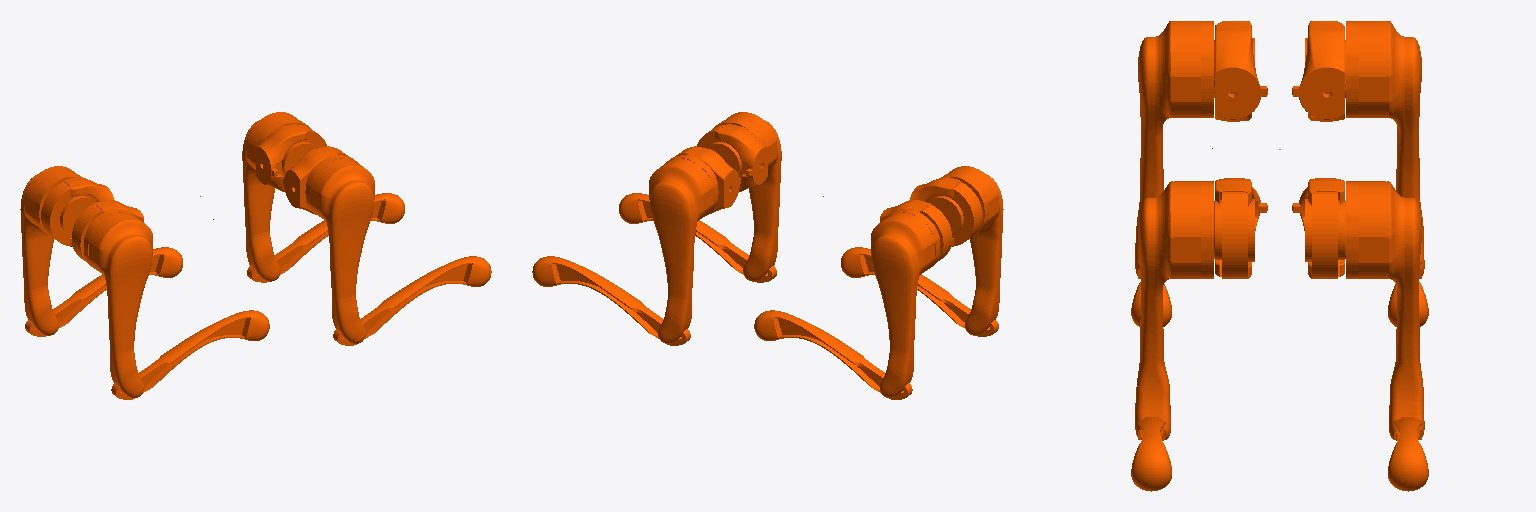
--- Facts derived from the render (not from the file) ---
Views: 3 orthographic renders of the robot side by side, from view 1: azimuth 30°, elevation 25°; view 2: azimuth 150°, elevation 25°; view 3: azimuth 270°, elevation 25°.
Robot: widowGo1 — 36 links, 35 joints (17 revolute, 2 prismatic, 16 fixed); root link base; default pose: joints at zero except 6 at the middle of their limits (widow_left_finger = 0.026, widow_right_finger = -0.026, FR_calf_joint = -1.81, FL_calf_joint = -1.81, RR_calf_joint = -1.81, RL_calf_joint = -1.81).
Links seen in each view (by area): view 1: FR_thigh, RR_thigh, RL_thigh, FL_thigh, FR_calf, RR_calf, RL_hip, FL_hip, FL_calf, RL_calf, FR_hip, RR_hip; view 2: FL_thigh, RL_thigh, RR_thigh, FR_thigh, FL_calf, RL_calf, RR_hip, FR_hip, FR_calf, RR_calf, FL_hip, RL_hip; view 3: FR_thigh, FL_thigh, RR_thigh, RL_thigh, FR_hip, FL_hip, RR_hip, RL_hip, FR_calf, FL_calf, RR_calf, RL_calf.
Boxes of the visible links, <box> form: FR_thigh: <box>305,155,374,343</box>; RR_thigh: <box>84,209,152,397</box>; RL_thigh: <box>20,166,82,335</box>; FL_thigh: <box>242,112,309,281</box>; FR_calf: <box>333,256,491,345</box>; RR_calf: <box>111,310,269,399</box>; RL_hip: <box>41,177,113,246</box>; FL_hip: <box>256,124,326,192</box>; FL_calf: <box>247,193,404,282</box>; RL_calf: <box>25,247,182,336</box>; FR_hip: <box>283,146,347,214</box>; RR_hip: <box>72,200,143,263</box>; FL_thigh: <box>649,155,718,343</box>; RL_thigh: <box>871,209,939,397</box>; RR_thigh: <box>941,166,1003,335</box>; FR_thigh: <box>714,112,781,281</box>; FL_calf: <box>532,256,690,345</box>; RL_calf: <box>754,310,912,399</box>; RR_hip: <box>910,177,982,246</box>; FR_hip: <box>697,124,767,192</box>; FR_calf: <box>619,193,776,282</box>; RR_calf: <box>841,247,998,336</box>; FL_hip: <box>676,146,740,214</box>; RL_hip: <box>880,200,951,263</box>; FR_thigh: <box>1135,181,1213,440</box>; FL_thigh: <box>1346,181,1424,440</box>; RR_thigh: <box>1135,21,1213,275</box>; RL_thigh: <box>1346,21,1424,275</box>; FR_hip: <box>1214,178,1267,278</box>; FL_hip: <box>1292,178,1345,278</box>; RR_hip: <box>1214,21,1267,121</box>; RL_hip: <box>1292,21,1345,121</box>; FR_calf: <box>1131,417,1171,491</box>; FL_calf: <box>1388,417,1428,491</box>; RR_calf: <box>1131,260,1171,326</box>; RL_calf: <box>1388,260,1428,326</box>.
Bounding box of the posed robot: 0.6536 × 0.294 × 0.2794 m (x, y, z).
12 mesh visuals loaded from 14 distinct referenced files (4 Collada DAE); not drawn: 11 (reference not matched to a file when rendering).

robot.urdf — widowGo1:
<?xml version="1.0" ?>
<!-- =================================================================================== -->
<!-- |    This document was autogenerated by xacro from robot.xacro                    | -->
<!-- |    EDITING THIS FILE BY HAND IS NOT RECOMMENDED                                 | -->
<!-- =================================================================================== -->
<robot name="widowGo1">
  <material name="black">
    <color rgba="0.0 0.0 0.0 1.0"/>
  </material>
  <material name="blue">
    <color rgba="0.0 0.0 0.8 1.0"/>
  </material>
  <material name="green">
    <color rgba="0.0 0.8 0.0 1.0"/>
  </material>
  <material name="grey">
    <color rgba="0.2 0.2 0.2 1.0"/>
  </material>
  <material name="silver">
    <color rgba="0.9137254901960784 0.9137254901960784 0.8470588235294118 1.0"/>
  </material>
  <material name="orange">
    <color rgba="1.0 0.4235294117647059 0.0392156862745098 1.0"/>
  </material>
  <material name="brown">
    <color rgba="0.8705882352941177 0.8117647058823529 0.7647058823529411 1.0"/>
  </material>
  <material name="red">
    <color rgba="0.8 0.0 0.0 1.0"/>
  </material>
  <material name="white">
    <color rgba="1.0 1.0 1.0 1.0"/>
  </material>
  <!-- ros_control plugin -->
  <gazebo>
    <plugin filename="libgazebo_ros_control.so" name="gazebo_ros_control">
      <robotNamespace>/go1_gazebo</robotNamespace>
      <robotSimType>gazebo_ros_control/DefaultRobotHWSim</robotSimType>
    </plugin>
  </gazebo>
  <!-- Show the trajectory of trunk center. -->
  <gazebo>
    <plugin filename="libLinkPlot3DPlugin.so" name="3dplot">
      <frequency>10</frequency>
      <plot>
        <link>base</link>
        <pose>0 0 0 0 0 0</pose>
        <material>Gazebo/Yellow</material>
      </plot>
    </plugin>
  </gazebo>
  <!-- Show the trajectory of foot. You can add another trajectory about another foot. -->
  <!-- <gazebo>
        <plugin name="3dplot" filename="libLinkPlot3DPlugin.so">
            <frequency>100</frequency>
            <plot>
                <link>FL_foot</link>
                <pose>0 0 0 0 0 0</pose>
                <material>Gazebo/Green</material>
            </plot>
        </plugin>
    </gazebo> -->
  <gazebo>
    <plugin filename="libgazebo_ros_force.so" name="gazebo_ros_force">
      <bodyName>trunk</bodyName>
      <topicName>/apply_force/trunk</topicName>
    </plugin>
  </gazebo>
  <gazebo reference="imu_link">
    <gravity>true</gravity>
    <sensor name="imu_sensor" type="imu">
      <always_on>true</always_on>
      <update_rate>1000</update_rate>
      <visualize>true</visualize>
      <topic>__default_topic__</topic>
      <plugin filename="libgazebo_ros_imu_sensor.so" name="imu_plugin">
        <topicName>trunk_imu</topicName>
        <bodyName>imu_link</bodyName>
        <updateRateHZ>1000.0</updateRateHZ>
        <gaussianNoise>0.0</gaussianNoise>
        <xyzOffset>0 0 0</xyzOffset>
        <rpyOffset>0 0 0</rpyOffset>
        <frameName>imu_link</frameName>
      </plugin>
      <pose>0 0 0 0 0 0</pose>
    </sensor>
  </gazebo>
  <!-- Depth camera -->
  <!-- <gazebo>
        <plugin name="camera_plugin" filename="libgazebo_ros_openni_kinect.so">
            <baseline>0.025</baseline>
            <always_on>true</always_on>
            <updateRate>0.0</updateRate>
            <cameraName>unitree_camera_left</cameraName>
            <frameName>depthCamera_link_left</frameName>
            <imageTopicName>rgb/imageRaw_left</imageTopicName>
            <depthImageTopicName>depth/imageRaw_left</depthImageTopicName>
            <pointCloudTopicName>depth/points_left</pointCloudTopicName>
            <cameraInfoTopicName>rgb/cameraInfo_left</cameraInfoTopicName>              
            <depthImageCameraInfoTopicName>depth/cameraInfo_left</depthImageCameraInfoTopicName>            
            <pointCloudCutoff>0.1</pointCloudCutoff>                
            <pointCloudCutoffMax>1.5</pointCloudCutoffMax>                
            <distortionK1>0.0</distortionK1>
            <distortionK2>0.0</distortionK2>
            <distortionK3>0.0</distortionK3>
            <distortionT1>0.0</distortionT1>
            <distortionT2>0.0</distortionT2>
            <CxPrime>0.0</CxPrime>
            <Cx>0.0045</Cx>
            <Cy>0.0039</Cy>
            <focalLength>0.004</focalLength>
            <hackBaseline>0.0</hackBaseline>
        </plugin>
    </gazebo> -->
  <!-- <gazebo reference="depthCamera_link_left">
        <sensor name="unitree_camera_left" type="depth_camera">
            <update_rate>16</update_rate>
            <always_on>true</always_on>
            <visualize>true</visualize>
            <camera>
                <horizontal_fov>2.094</horizontal_fov>
                <image>
                    <width>928</width>
                    <height>800</height>
                    <format>R8G8B8</format>
                </image>
                <depth_camera></depth_camera>
                <clip>
                    <near>0.1</near>
                    <far>100</far>
                </clip>
            </camera>
            <plugin name="camera_plugin" filename="libgazebo_ros_openni_kinect.so">
                <baseline>0.025</baseline>
                <always_on>true</always_on>
                <updateRate>0.0</updateRate>
                <cameraName>unitree_camera_left</cameraName>
                <frameName>depthCamera_link_left</frameName>
                <imageTopicName>rgb/imageRaw_left</imageTopicName>
                <depthImageTopicName>depth/imageRaw_left</depthImageTopicName>
                <pointCloudTopicName>depth/points_left</pointCloudTopicName>
                <cameraInfoTopicName>rgb/cameraInfo_left</cameraInfoTopicName>              
                <depthImageCameraInfoTopicName>depth/cameraInfo_left</depthImageCameraInfoTopicName>            
                <pointCloudCutoff>0.1</pointCloudCutoff>                
                <pointCloudCutoffMax>1.5</pointCloudCutoffMax>                
                <distortionK1>0.0</distortionK1>
                <distortionK2>0.0</distortionK2>
                <distortionK3>0.0</distortionK3>
                <distortionT1>0.0</distortionT1>
                <distortionT2>0.0</distortionT2>
                <CxPrime>0.0</CxPrime>
                <Cx>0.0045</Cx>
                <Cy>0.0039</Cy>
                <focalLength>0.004</focalLength>
                <hackBaseline>0.0</hackBaseline>
            </plugin>
        </sensor>
    </gazebo> -->
  <gazebo reference="depthCamera_link_left">
    <sensor name="camera_link_camera" type="depth">
      <update_rate>20</update_rate>
      <camera>
        <horizontal_fov>1.047198</horizontal_fov>
        <image>
          <width>640</width>
          <height>480</height>
          <format>R8G8B8</format>
        </image>
        <clip>
          <near>0.05</near>
          <far>3</far>
        </clip>
      </camera>
      <plugin filename="libgazebo_ros_openni_kinect.so" name="camera_link_controller">
        <baseline>0.2</baseline>
        <alwaysOn>true</alwaysOn>
        <updateRate>1.0</updateRate>
        <cameraName>camera_link_ir</cameraName>
        <imageTopicName>/camera_link/color/image_raw</imageTopicName>
        <cameraInfoTopicName>/camera_link/color/camera_info</cameraInfoTopicName>
        <depthImageTopicName>/camera_link/depth/image_raw</depthImageTopicName>
        <depthImageInfoTopicName>/camera_link/depth/camera_info</depthImageInfoTopicName>
        <pointCloudTopicName>/camera_link/depth/points</pointCloudTopicName>
        <frameName>depthCamera_link_left</frameName>
        <pointCloudCutoff>0.5</pointCloudCutoff>
        <pointCloudCutoffMax>3.0</pointCloudCutoffMax>
        <distortionK1>0.00000001</distortionK1>
        <distortionK2>0.00000001</distortionK2>
        <distortionK3>0.00000001</distortionK3>
        <distortionT1>0.00000001</distortionT1>
        <distortionT2>0.00000001</distortionT2>
        <CxPrime>0</CxPrime>
        <Cx>0</Cx>
        <Cy>0</Cy>
        <focalLength>0</focalLength>
        <hackBaseline>0</hackBaseline>
      </plugin>
    </sensor>
  </gazebo>
  <!-- Foot contacts. -->
  <gazebo reference="FR_calf">
    <sensor name="FR_foot_contact" type="contact">
      <update_rate>100</update_rate>
      <plugin filename="libunitreeFootContactPlugin.so" name="contactPlugin"/>
      <contact>
        <collision>FR_calf_fixed_joint_lump__FR_foot_collision_1</collision>
      </contact>
    </sensor>
  </gazebo>
  <gazebo reference="FL_calf">
    <sensor name="FL_foot_contact" type="contact">
      <update_rate>100</update_rate>
      <plugin filename="libunitreeFootContactPlugin.so" name="contactPlugin"/>
      <contact>
        <collision>FL_calf_fixed_joint_lump__FL_foot_collision_1</collision>
      </contact>
    </sensor>
  </gazebo>
  <gazebo reference="RR_calf">
    <sensor name="RR_foot_contact" type="contact">
      <update_rate>100</update_rate>
      <plugin filename="libunitreeFootContactPlugin.so" name="contactPlugin"/>
      <contact>
        <collision>RR_calf_fixed_joint_lump__RR_foot_collision_1</collision>
      </contact>
    </sensor>
  </gazebo>
  <gazebo reference="RL_calf">
    <sensor name="RL_foot_contact" type="contact">
      <update_rate>100</update_rate>
      <plugin filename="libunitreeFootContactPlugin.so" name="contactPlugin"/>
      <contact>
        <collision>RL_calf_fixed_joint_lump__RL_foot_collision_1</collision>
      </contact>
    </sensor>
  </gazebo>
  <!-- Visualization of Foot contacts. -->
  <gazebo reference="FR_foot">
    <visual>
      <plugin filename="libunitreeDrawForcePlugin.so" name="drawForcePlugin">
        <topicName>FR_foot_contact</topicName>
      </plugin>
    </visual>
  </gazebo>
  <gazebo reference="FL_foot">
    <visual>
      <plugin filename="libunitreeDrawForcePlugin.so" name="drawForcePlugin">
        <topicName>FL_foot_contact</topicName>
      </plugin>
    </visual>
  </gazebo>
  <gazebo reference="RR_foot">
    <visual>
      <plugin filename="libunitreeDrawForcePlugin.so" name="drawForcePlugin">
        <topicName>RR_foot_contact</topicName>
      </plugin>
    </visual>
  </gazebo>
  <gazebo reference="RL_foot">
    <visual>
      <plugin filename="libunitreeDrawForcePlugin.so" name="drawForcePlugin">
        <topicName>RL_foot_contact</topicName>
      </plugin>
    </visual>
  </gazebo>
  <gazebo reference="base">
    <material>Gazebo/Green</material>
    <turnGravityOff>false</turnGravityOff>
  </gazebo>
  <gazebo reference="trunk">
    <mu1>0.2</mu1>
    <mu2>0.2</mu2>
    <kp value="1000000.0"/>
    <kd value="1.0"/>
  </gazebo>
  <gazebo reference="stick_link">
    <mu1>0.2</mu1>
    <mu2>0.2</mu2>
    <material>Gazebo/White</material>
  </gazebo>
  <gazebo reference="imu_link">
    <mu1>0.2</mu1>
    <mu2>0.2</mu2>
    <material>Gazebo/Red</material>
  </gazebo>
  <!-- FL leg -->
  <gazebo reference="FL_hip">
    <mu1>0.2</mu1>
    <mu2>0.2</mu2>
    <material>Gazebo/DarkGrey</material>
  </gazebo>
  <gazebo reference="FL_thigh">
    <mu1>0.2</mu1>
    <mu2>0.2</mu2>
    <self_collide>1</self_collide>
    <material>Gazebo/DarkGrey</material>
    <kp value="1000000.0"/>
    <kd value="1.0"/>
  </gazebo>
  <gazebo reference="FL_calf">
    <mu1>0.2</mu1>
    <mu2>0.2</mu2>
    <self_collide>1</self_collide>
  </gazebo>
  <gazebo reference="FL_foot">
    <mu1>0.6</mu1>
    <mu2>0.6</mu2>
    <self_collide>1</self_collide>
    <material>Gazebo/DarkGrey</material>
    <kp value="1000000.0"/>
    <kd value="1.0"/>
  </gazebo>
  <!-- FR leg -->
  <gazebo reference="FR_hip">
    <mu1>0.2</mu1>
    <mu2>0.2</mu2>
    <material>Gazebo/DarkGrey</material>
  </gazebo>
  <gazebo reference="FR_thigh">
    <mu1>0.2</mu1>
    <mu2>0.2</mu2>
    <self_collide>1</self_collide>
    <material>Gazebo/DarkGrey</material>
    <kp value="1000000.0"/>
    <kd value="1.0"/>
  </gazebo>
  <gazebo reference="FR_calf">
    <mu1>0.2</mu1>
    <mu2>0.2</mu2>
    <self_collide>1</self_collide>
  </gazebo>
  <gazebo reference="FR_foot">
    <mu1>0.6</mu1>
    <mu2>0.6</mu2>
    <self_collide>1</self_collide>
    <material>Gazebo/DarkGrey</material>
    <kp value="1000000.0"/>
    <kd value="1.0"/>
  </gazebo>
  <!-- RL leg -->
  <gazebo reference="RL_hip">
    <mu1>0.2</mu1>
    <mu2>0.2</mu2>
    <material>Gazebo/DarkGrey</material>
  </gazebo>
  <gazebo reference="RL_thigh">
    <mu1>0.2</mu1>
    <mu2>0.2</mu2>
    <self_collide>1</self_collide>
    <material>Gazebo/DarkGrey</material>
    <kp value="1000000.0"/>
    <kd value="1.0"/>
  </gazebo>
  <gazebo reference="RL_calf">
    <mu1>0.2</mu1>
    <mu2>0.2</mu2>
    <self_collide>1</self_collide>
  </gazebo>
  <gazebo reference="RL_foot">
    <mu1>0.6</mu1>
    <mu2>0.6</mu2>
    <self_collide>1</self_collide>
    <material>Gazebo/DarkGrey</material>
    <kp value="1000000.0"/>
    <kd value="1.0"/>
  </gazebo>
  <!-- RR leg -->
  <gazebo reference="RR_hip">
    <mu1>0.2</mu1>
    <mu2>0.2</mu2>
    <material>Gazebo/DarkGrey</material>
  </gazebo>
  <gazebo reference="RR_thigh">
    <mu1>0.2</mu1>
    <mu2>0.2</mu2>
    <self_collide>1</self_collide>
    <material>Gazebo/DarkGrey</material>
    <kp value="1000000.0"/>
    <kd value="1.0"/>
  </gazebo>
  <gazebo reference="RR_calf">
    <mu1>0.2</mu1>
    <mu2>0.2</mu2>
    <self_collide>1</self_collide>
  </gazebo>
  <gazebo reference="RR_foot">
    <mu1>0.6</mu1>
    <mu2>0.6</mu2>
    <self_collide>1</self_collide>
    <material>Gazebo/DarkGrey</material>
    <kp value="1000000.0"/>
    <kd value="1.0"/>
  </gazebo>
  <!-- <xacro:include filename="$(find go1_gazebo)/launch/stairs.urdf.xacro"/> -->
  <!-- <xacro:stairs stairs="15" xpos="0" ypos="0" zpos="0" /> -->
  <!-- Debug mode will hung up the robot, use "true" or "false" to switch it. -->
  <!-- <xacro:if value="$(arg DEBUG)">
    <link name="world"/>
    <joint name="base_static_joint" type="fixed">
      <origin rpy="0 0 0" xyz="0 0 0"/>
      <parent link="world"/>
      <child link="base"/>
    </joint>
  </xacro:if>  -->
  <link name="base">
    <visual>
      <origin rpy="0 0 0" xyz="0 0 0"/>
      <geometry>
        <box size="0.001 0.001 0.001"/>
      </geometry>
    </visual>
  </link>

<!-- widow x config -->
  <joint name="widow_mount" type="fixed">
    <origin rpy="0 0 0" xyz="0.03 0 0.057"/>
    <parent link="base"/>
    <child link="wx250/base_link"/>
  </joint>
  <link name="wx250/base_link">
    <visual>
      <origin rpy="0 0 1.5707963267948966" xyz="0 0 0"/>
      <geometry>
        <mesh filename="../meshes/wx250_meshes/wx250_1_base.stl" scale="0.001 0.001 0.001"/>
      </geometry>
      <material name="black"/>
    </visual>
    <collision>
      <origin rpy="0 0 1.5707963267948966" xyz="0 0 0"/>
      <geometry>
        <mesh filename="../meshes/wx250_meshes/wx250_1_base.stl" scale="0.001 0.001 0.001"/>
      </geometry>
    </collision>
    <inertial>
      <origin rpy="0 0 1.5707963267948966" xyz="-0.0380446000 0.0006138920 0.0193354000"/>
      <mass value="0.538736"/>
      <inertia ixx="0.0021150000" ixy="-0.0000163500" ixz="0.0000006998" iyy="0.0006921000" iyz="0.0000464200" izz="0.0025240000"/>
    </inertial>
  </link>
  <joint name="widow_waist" type="revolute">
    <axis xyz="0 0 1"/>
    <!-- <limit effort="10" lower="-3.141582653589793" upper="3.141582653589793" velocity="3.141592653589793"/> -->
    <limit effort="10" velocity="3.141592653589793"/>
    <origin rpy="0 0 0" xyz="0 0 0.072"/>
    <parent link="wx250/base_link"/>
    <child link="wx250/shoulder_link"/>
    <dynamics friction="0"/>
  </joint>
  <transmission name="trans_waist">
    <type>transmission_interface/SimpleTransmission</type>
    <joint name="widow_waist">
      <hardwareInterface>hardware_interface/EffortJointInterface</hardwareInterface>
    </joint>
    <actuator name="waist_motor">
      <mechanicalReduction>1</mechanicalReduction>
    </actuator>
  </transmission>
  <link name="wx250/shoulder_link">
    <visual>
      <origin rpy="0 0 1.5707963267948966" xyz="0 0 -0.003"/>
      <geometry>
        <mesh filename="../meshes/wx250_meshes/wx250_2_shoulder.stl" scale="0.001 0.001 0.001"/>
      </geometry>
      <material name="black"/>
    </visual>
    <collision>
      <origin rpy="0 0 1.5707963267948966" xyz="0 0 -0.003"/>
      <geometry>
        <mesh filename="../meshes/wx250_meshes/wx250_2_shoulder.stl" scale="0.001 0.001 0.001"/>
      </geometry>
    </collision>
    <inertial>
      <origin rpy="0 0 1.5707963267948966" xyz="0.0000223482 0.0000414609 0.0066287000"/>
      <mass value="0.480879"/>
      <inertia ixx="0.0003790000" ixy="0.0000000022" ixz="-0.0000003561" iyy="0.0005557000" iyz="0.0000012245" izz="0.0005889000"/>
    </inertial>
  </link>
  <joint name="widow_shoulder" type="revolute">
    <axis xyz="0 1 0"/>
    <limit effort="20" lower="-1.8849555921538759" upper="1.9896753472735358" velocity="3.141592653589793"/>
    <origin rpy="0 0 0" xyz="0 0 0.03865"/>
    <parent link="wx250/shoulder_link"/>
    <child link="wx250/upper_arm_link"/>
    <dynamics friction="0"/>
  </joint>
  <transmission name="trans_shoulder">
    <type>transmission_interface/SimpleTransmission</type>
    <joint name="widow_shoulder">
      <hardwareInterface>hardware_interface/EffortJointInterface</hardwareInterface>
    </joint>
    <actuator name="shoulder_motor">
      <mechanicalReduction>1</mechanicalReduction>
    </actuator>
  </transmission>
  <link name="wx250/upper_arm_link">
    <visual>
      <origin rpy="0 0 1.5707963267948966" xyz="0 0 0"/>
      <geometry>
        <mesh filename="../meshes/wx250_meshes/wx250_3_upper_arm.stl" scale="0.001 0.001 0.001"/>
      </geometry>
      <material name="black"/>
    </visual>
    <collision>
      <origin rpy="0 0 1.5707963267948966" xyz="0 0 0"/>
      <geometry>
        <mesh filename="../meshes/wx250_meshes/wx250_3_upper_arm.stl" scale="0.001 0.001 0.001"/>
      </geometry>
    </collision>
    <inertial>
      <origin rpy="0 0 1.5707963267948966" xyz="0.0171605000 0.0000002725 0.1913230000"/>
      <mass value="0.430811"/>
      <inertia ixx="0.0034630000" ixy="-0.0000000001" ixz="-0.0000000002" iyy="0.0035870000" iyz="0.0004272000" izz="0.0004566000"/>
    </inertial>
  </link>
  <joint name="widow_elbow" type="revolute">
    <axis xyz="0 1 0"/>
    <limit effort="15" lower="-2.1467549799530254" upper="1.6057029118347832" velocity="3.141592653589793"/>
    <origin rpy="0 0 0" xyz="0.04975 0 0.25"/>
    <parent link="wx250/upper_arm_link"/>
    <child link="wx250/forearm_link"/>
    <dynamics friction="0"/>
  </joint>
  <transmission name="trans_elbow">
    <type>transmission_interface/SimpleTransmission</type>
    <joint name="widow_elbow">
      <hardwareInterface>hardware_interface/EffortJointInterface</hardwareInterface>
    </joint>
    <actuator name="elbow_motor">
      <mechanicalReduction>1</mechanicalReduction>
    </actuator>
  </transmission>
  <link name="wx250/forearm_link">
    <visual>
      <origin rpy="0 0 1.5707963267948966" xyz="0 0 0"/>
      <geometry>
        <mesh filename="../meshes/wx250_meshes/wx250_4_forearm.stl" scale="0.001 0.001 0.001"/>
      </geometry>
      <material name="black"/>
    </visual>
    <collision>
      <origin rpy="0 0 1.5707963267948966" xyz="0 0 0"/>
      <geometry>
        <mesh filename="../meshes/wx250_meshes/wx250_4_forearm.stl" scale="0.001 0.001 0.001"/>
      </geometry>
    </collision>
    <inertial>
      <origin rpy="0 0 1.5707963267948966" xyz="0.1534230000 -0.0001179685 -0.0004390000"/>
      <mass value="0.297673"/>
      <inertia ixx="0.0021760000" ixy="-0.0000030658" ixz="0.0000000000" iyy="0.0000575700" iyz="0.0000000000" izz="0.0021860000"/>
    </inertial>
  </link>
  <joint name="widow_wrist_angle" type="revolute">
    <axis xyz="0 1 0"/>
    <limit effort="5" lower="-1.7453292519943295" upper="2.1467549799530254" velocity="3.141592653589793"/>
    <origin rpy="0 0 0" xyz="0.25 0 0"/>
    <parent link="wx250/forearm_link"/>
    <child link="wx250/wrist_link"/>
    <dynamics friction="0"/>
  </joint>
  <transmission name="trans_wrist_angle">
    <type>transmission_interface/SimpleTransmission</type>
    <joint name="widow_wrist_angle">
      <hardwareInterface>hardware_interface/EffortJointInterface</hardwareInterface>
    </joint>
    <actuator name="wrist_angle_motor">
      <mechanicalReduction>1</mechanicalReduction>
    </actuator>
  </transmission>
  <link name="wx250/wrist_link">
    <visual>
      <origin rpy="0 0 1.5707963267948966" xyz="0 0 0"/>
      <geometry>
        <mesh filename="../meshes/wx250_meshes/wx250_5_wrist.stl" scale="0.001 0.001 0.001"/>
      </geometry>
      <material name="black"/>
    </visual>
    <collision>
      <origin rpy="0 0 1.5707963267948966" xyz="0 0 0"/>
      <geometry>
        <mesh filename="../meshes/wx250_meshes/wx250_5_wrist.stl" scale="0.001 0.001 0.001"/>
      </geometry>
    </collision>
    <inertial>
      <origin rpy="0 0 1.5707963267948966" xyz="0.0423600000 -0.0000106630 0.0105770000"/>
      <mass value="0.084957"/>
      <inertia ixx="0.0000308200" ixy="0.0000000191" ixz="0.0000000023" iyy="0.0000282200" iyz="0.0000025481" izz="0.0000315200"/>
    </inertial>
  </link>
  <joint name="widow_wrist_rotate" type="revolute">
    <axis xyz="1 0 0"/>
    <limit effort="1" lower="-3.141582653589793" upper="3.141582653589793" velocity="3.141592653589793"/>
    <origin rpy="0 0 0" xyz="0.065 0 0"/>
    <parent link="wx250/wrist_link"/>
    <child link="wx250/gripper_link"/>
    <dynamics friction="0"/>
  </joint>
  <transmission name="trans_wrist_rotate">
    <type>transmission_interface/SimpleTransmission</type>
    <joint name="widow_wrist_rotate">
      <hardwareInterface>hardware_interface/EffortJointInterface</hardwareInterface>
    </joint>
    <actuator name="wrist_rotate_motor">
      <mechanicalReduction>1</mechanicalReduction>
    </actuator>
  </transmission>
  <link name="wx250/gripper_link">
    <visual>
      <origin rpy="0 0 1.5707963267948966" xyz="-0.02 0 0"/>
      <geometry>
        <mesh filename="../meshes/wx250_meshes/wx250_6_gripper.stl" scale="0.001 0.001 0.001"/>
      </geometry>
      <material name="black"/>
    </visual>
    <collision>
      <origin rpy="0 0 1.5707963267948966" xyz="-0.02 0 0"/>
      <geometry>
        <mesh filename="../meshes/wx250_meshes/wx250_6_gripper.stl" scale="0.001 0.001 0.001"/>
      </geometry>
    </collision>
    <inertial>
      <origin rpy="0 0 1.5707963267948966" xyz="0.0216310000 0.0000002516 0.0114100000"/>
      <mass value="0.072885"/>
      <inertia ixx="0.0000253700" ixy="0.0000000000" ixz="0.0000000000" iyy="0.0000183600" iyz="0.0000004340" izz="0.0000167400"/>
    </inertial>
  </link>
  <joint name="ee_arm" type="fixed">
    <axis xyz="1 0 0"/>
    <origin rpy="0 0 0" xyz="0.043 0 0"/>
    <parent link="wx250/gripper_link"/>
    <child link="wx250/ee_arm_link"/>
  </joint>
  <link name="wx250/ee_arm_link">
    <inertial>
      <mass value="0.001"/>
      <inertia ixx="0.001" ixy="0" ixz="0" iyy="0.001" iyz="0" izz="0.001"/>
    </inertial>
  </link>
  <joint name="gripper" type="fixed">
    <axis xyz="1 0 0"/>
    <limit effort="1" velocity="3.141592653589793"/>
    <origin rpy="0 0 0" xyz="0.0055 0 0"/>
    <parent link="wx250/ee_arm_link"/>
    <child link="wx250/gripper_prop_link"/>
    <dynamics friction="0"/>
  </joint>
  <!-- <transmission name="trans_gripper">
    <type>transmission_interface/SimpleTransmission</type>
    <joint name="gripper">
      <hardwareInterface>hardware_interface/EffortJointInterface</hardwareInterface>
    </joint>
    <actuator name="gripper_motor">
      <mechanicalReduction>1</mechanicalReduction>
    </actuator>
  </transmission> -->
  <link name="wx250/gripper_prop_link">
    <visual>
      <origin rpy="0 0 1.5707963267948966" xyz="-0.0685 0 0"/>
      <geometry>
        <mesh filename="../meshes/wx250_meshes/wx250_7_gripper_prop.stl" scale="0.001 0.001 0.001"/>
      </geometry>
      <material name="black"/>
    </visual>
    <collision>
      <origin rpy="0 0 1.5707963267948966" xyz="-0.0685 0 0"/>
      <geometry>
        <mesh filename="../meshes/wx250_meshes/wx250_7_gripper_prop.stl" scale="0.001 0.001 0.001"/>
      </geometry>
    </collision>
    <inertial>
      <origin rpy="0 0 1.5707963267948966" xyz="0.0008460000 -0.0000016817 0.0000420000"/>
      <mass value="0.00434"/>
      <inertia ixx="0.0000005923" ixy="0.0000000000" ixz="0.0000003195" iyy="0.0000011156" iyz="-0.0000000004" izz="0.0000005743"/>
    </inertial>
  </link>
  <!-- If the AR tag is being used, then add the AR tag mount -->
  <!-- If the gripper bar is being used, then also add the gripper bar -->
  <joint name="gripper_bar" type="fixed">
    <axis xyz="1 0 0"/>
    <origin rpy="0 0 0" xyz="0 0 0"/>
    <parent link="wx250/ee_arm_link"/>
    <child link="wx250/gripper_bar_link"/>
  </joint>
  <link name="wx250/gripper_bar_link">
    <visual>
      <origin rpy="0 0 1.5707963267948966" xyz="-0.063 0 0"/>
      <geometry>
        <mesh filename="../meshes/wx250_meshes/wx250_8_gripper_bar.stl" scale="0.001 0.001 0.001"/>
      </geometry>
      <material name="black"/>
    </visual>
    <collision>
      <origin rpy="0 0 1.5707963267948966" xyz="-0.063 0 0"/>
      <geometry>
        <mesh filename="../meshes/wx250_meshes/wx250_8_gripper_bar.stl" scale="0.001 0.001 0.001"/>
      </geometry>
    </collision>
    <inertial>
      <origin rpy="0 0 1.5707963267948966" xyz="0.0096870000 0.0000008177 0.0049620000"/>
      <mass value="0.034199"/>
      <inertia ixx="0.0000074125" ixy="-0.0000000008" ixz="-0.0000000006" iyy="0.0000284300" iyz="-0.0000013889" izz="0.0000286000"/>
    </inertial>
  </link>
  <joint name="ee_bar" type="fixed">
    <axis xyz="1 0 0"/>
    <origin rpy="0 0 0" xyz="0.023 0 0"/>
    <parent link="wx250/gripper_bar_link"/>
    <child link="wx250/fingers_link"/>
  </joint>
  <link name="wx250/fingers_link">
    <inertial>
      <mass value="0.001"/>
      <inertia ixx="0.001" ixy="0" ixz="0" iyy="0.001" iyz="0" izz="0.001"/>
    </inertial>
  </link>
  <!-- If the gripper fingers are being used, add those as well -->
  <joint name="widow_left_finger" type="prismatic">
    <axis xyz="0 1 0"/>
    <limit effort="5" lower="0.015" upper="0.037" velocity="1"/>
    <origin rpy="0 0 0" xyz="0 0 0"/>
    <parent link="wx250/fingers_link"/>
    <child link="wx250/left_finger_link"/>
    <dynamics friction="0"/>
  </joint>
  <transmission name="trans_left_finger">
    <type>transmission_interface/SimpleTransmission</type>
    <joint name="widow_left_finger">
      <hardwareInterface>hardware_interface/EffortJointInterface</hardwareInterface>
    </joint>
    <actuator name="left_finger_motor">
      <mechanicalReduction>1</mechanicalReduction>
    </actuator>
  </transmission>
  <link name="wx250/left_finger_link">
    <visual>
      <origin rpy="3.141592653589793 3.141592653589793 0" xyz="0 0.005 0"/>
      <geometry>
        <mesh filename="../meshes/wx250_meshes/wx250_9_gripper_finger.stl" scale="0.001 0.001 0.001"/>
      </geometry>
      <material name="black"/>
    </visual>
    <collision>
      <origin rpy="3.141592653589793 3.141592653589793 0" xyz="0 0.005 0"/>
      <geometry>
        <mesh filename="../meshes/wx250_meshes/wx250_9_gripper_finger.stl" scale="0.001 0.001 0.001"/>
      </geometry>
    </collision>
    <inertial>
      <origin rpy="3.141592653589793 3.141592653589793 1.5707963267948966" xyz="0.0138160000 0.0000000000 0.0000000000"/>
      <mass value="0.016246"/>
      <inertia ixx="0.0000047310" ixy="-0.0000004560" ixz="0.0000000000" iyy="0.0000015506" iyz="0.0000000000" izz="0.0000037467"/>
    </inertial>
  </link>
  <joint name="widow_right_finger" type="prismatic">
    <axis xyz="0 1 0"/>
    <limit effort="5" lower="-0.037" upper="-0.015" velocity="1"/>
    <origin rpy="0 0 0" xyz="0 0 0"/>
    <parent link="wx250/fingers_link"/>
    <child link="wx250/right_finger_link"/>
    <dynamics friction="0"/>
    <mimic joint="widow_left_finger" multiplier="-1" offset="0"/>
  </joint>
  <transmission name="trans_right_finger">
    <type>transmission_interface/SimpleTransmission</type>
    <joint name="widow_right_finger">
      <hardwareInterface>hardware_interface/EffortJointInterface</hardwareInterface>
    </joint>
    <actuator name="right_finger_motor">
      <mechanicalReduction>1</mechanicalReduction>
    </actuator>
  </transmission>
  <link name="wx250/right_finger_link">
    <visual>
      <origin rpy="0 3.141592653589793 0" xyz="0 -0.005 0"/>
      <geometry>
        <mesh filename="../meshes/wx250_meshes/wx250_9_gripper_finger.stl" scale="0.001 0.001 0.001"/>
      </geometry>
      <material name="black"/>
    </visual>
    <collision>
      <origin rpy="0 3.141592653589793 0" xyz="0 -0.005 0"/>
      <geometry>
        <mesh filename="../meshes/wx250_meshes/wx250_9_gripper_finger.stl" scale="0.001 0.001 0.001"/>
      </geometry>
    </collision>
    <inertial>
      <origin rpy="0 3.141592653589793 1.5707963267948966" xyz="0.0138160000 0.0000000000  0.0000000000"/>
      <mass value="0.016246"/>
      <inertia ixx="0.0000047310" ixy="0.0000004560" ixz="0.0000000000" iyy="0.0000015506" iyz="0.0000000000" izz="0.0000037467"/>
    </inertial>
  </link>
  <joint name="ee_gripper" type="fixed" dont_collapse="true">
    <axis xyz="1 0 0"/>
    <origin rpy="0 0 0" xyz="0.027575 0 0"/>
    <parent link="wx250/fingers_link"/>
    <child link="wx250/ee_gripper_link"/>
  </joint>
  <link name="wx250/ee_gripper_link">
    <inertial>
      <mass value="0.001"/>
      <inertia ixx="0.001" ixy="0" ixz="0" iyy="0.001" iyz="0" izz="0.001"/>
    </inertial>
  </link>
<!-- widow x config ends -->

  <joint name="floating_base" type="fixed" dont_collapse="true">
    <origin rpy="0 0 0" xyz="0 0 0"/>
    <parent link="base"/>
    <child link="trunk"/>
  </joint>
  <link name="trunk">
    <visual>
      <origin rpy="0 0 0" xyz="0 0 0"/>
      <geometry>
        <mesh filename="../meshes/trunk.dae" scale="1 1 1"/>
      </geometry>
      <material name="orange"/>
    </visual>
    <collision>
      <origin rpy="0 0 0" xyz="0 0 0"/>
      <!-- <geometry>
        <mesh filename="../meshes/trunk.dae" scale="1 1 1"/>
      </geometry> -->
      <geometry>
        <box size="0.3762 0.0935 0.114"/>
      </geometry>
    </collision>
    <inertial>
      <origin rpy="0 0 0" xyz="0.011611 0.004437 0.000108"/>
      <mass value="4.8"/>
      <inertia ixx="0.016130741919" ixy="0.000593180607" ixz="7.324662e-06" iyy="0.036507810812" iyz="2.0969537e-05" izz="0.044693872053"/>
    </inertial>
  </link>
  <joint name="imu_joint" type="fixed">
    <parent link="trunk"/>
    <child link="imu_link"/>
    <origin rpy="0 0 0" xyz="-0.01592 -0.06659 -0.00617"/>
  </joint>
  <link name="imu_link">
    <inertial>
      <mass value="0.001"/>
      <origin rpy="0 0 0" xyz="0 0 0"/>
      <inertia ixx="0.0001" ixy="0" ixz="0" iyy="0.0001" iyz="0" izz="0.0001"/>
    </inertial>
    <visual>
      <origin rpy="0 0 0" xyz="0 0 0"/>
      <geometry>
        <box size="0.001 0.001 0.001"/>
      </geometry>
      <material name="red"/>
    </visual>
    <collision>
      <origin rpy="0 0 0" xyz="0 0 0"/>
      <geometry>
        <box size=".001 .001 .001"/>
      </geometry>
    </collision>
  </link>
  <joint name="FR_hip_joint" type="revolute">
    <origin rpy="0 0 0" xyz="0.1881 -0.04675 0"/>
    <parent link="trunk"/>
    <child link="FR_hip"/>
    <axis xyz="1 0 0"/>
    <dynamics damping="0" friction="0"/>
    <limit effort="33.5" lower="-0.8028514559173915" upper="0.8028514559173915" velocity="21"/>
  </joint>
  <link name="FR_hip">
    <visual>
      <origin rpy="3.141592653589793 0 0" xyz="0 0 0"/>
      <geometry>
        <mesh filename="../meshes/hip.dae" scale="1 1 1"/>
      </geometry>
      <material name="orange"/>
    </visual>
    <collision>
      <origin rpy="1.5707963267948966 0 0" xyz="0 0 0"/>
      <geometry>
        <cylinder length="0.04" radius="0.046"/>
      </geometry>
    </collision>
    <inertial>
      <origin rpy="0 0 0" xyz="-0.00541 0.00074 6e-06"/>
      <mass value="0.510299"/>
      <inertia ixx="0.00030528937" ixy="7.788013e-06" ixz="2.2016e-07" iyy="0.000590894859" iyz="1.7175e-08" izz="0.000396594572"/>
    </inertial>
  </link>
  <joint name="FR_hip_fixed" type="fixed">
    <origin rpy="0 0 0" xyz="0 -0.08 0"/>
    <parent link="FR_hip"/>
    <child link="FR_thigh_shoulder"/>
  </joint>
  <!-- this link is only for collision -->
  <link name="FR_thigh_shoulder">
    <collision>
      <origin rpy="1.5707963267948966 0 0" xyz="0 0 0"/>
      <geometry>
        <cylinder length="0.032" radius="0.041"/>
      </geometry>
    </collision>
  </link>
  <joint name="FR_thigh_joint" type="revolute">
    <origin rpy="0 0 0" xyz="0 -0.08 0"/>
    <parent link="FR_hip"/>
    <child link="FR_thigh"/>
    <axis xyz="0 1 0"/>
    <dynamics damping="0" friction="0"/>
    <limit effort="33.5" lower="-1.0471975511965976" upper="4.1887902047863905" velocity="21"/>
  </joint>
  <link name="FR_thigh">
    <visual>
      <origin rpy="0 0 0" xyz="0 0 0"/>
      <geometry>
        <mesh filename="../meshes/thigh_mirror.dae" scale="1 1 1"/>
      </geometry>
      <material name="orange"/>
    </visual>
    <collision>
      <origin rpy="0 1.5707963267948966 0" xyz="0 0 -0.1065"/>
      <geometry>
        <box size="0.213 0.0245 0.034"/>
      </geometry>
    </collision>
    <inertial>
      <origin rpy="0 0 0" xyz="-0.003468 0.018947 -0.032736"/>
      <mass value="0.898919"/>
      <inertia ixx="0.005395867678" ixy="-1.02809e-07" ixz="0.000337529085" iyy="0.005142451046" iyz="5.816563e-06" izz="0.00102478732"/>
    </inertial>
  </link>
  <joint name="FR_calf_joint" type="revolute">
    <origin rpy="0 0 0" xyz="0 0 -0.213"/>
    <parent link="FR_thigh"/>
    <child link="FR_calf"/>
    <axis xyz="0 1 0"/>
    <dynamics damping="0" friction="0"/>
    <limit effort="33.5" lower="-2.6965336943312392" upper="-0.9162978572970231" velocity="21"/>
  </joint>
  <link name="FR_calf">
    <visual>
      <origin rpy="0 0 0" xyz="0 0 0"/>
      <geometry>
        <mesh filename="../meshes/calf.dae" scale="1 1 1"/>
      </geometry>
      <material name="orange"/>
    </visual>
    <collision>
      <origin rpy="0 1.5707963267948966 0" xyz="0 0 -0.1065"/>
      <geometry>
        <box size="0.213 0.016 0.016"/>
      </geometry>
    </collision>
    <inertial>
      <origin rpy="0 0 0" xyz="0.006286 0.001307 -0.122269"/>
      <mass value="0.158015"/>
      <inertia ixx="0.003607648222" ixy="1.494971e-06" ixz="-0.000132778525" iyy="0.003626771492" iyz="-2.8638535e-05" izz="3.5148003e-05"/>
    </inertial>
  </link>
  <joint name="FR_foot_fixed" type="fixed" dont_collapse="true">
    <origin rpy="0 0 0" xyz="0 0 -0.213"/>
    <parent link="FR_calf"/>
    <child link="FR_foot"/>
  </joint>
  <link name="FR_foot">
    <visual>
      <origin rpy="0 0 0" xyz="0 0 0"/>
      <geometry>
        <sphere radius="0.01"/>
      </geometry>
      <material name="orange"/>
    </visual>
    <collision>
      <origin rpy="0 0 0" xyz="0 0 0"/>
      <geometry>
        <sphere radius="0.02"/>
      </geometry>
    </collision>
    <inertial>
      <mass value="0.06"/>
      <inertia ixx="9.600000000000001e-06" ixy="0.0" ixz="0.0" iyy="9.600000000000001e-06" iyz="0.0" izz="9.600000000000001e-06"/>
    </inertial>
  </link>
  <transmission name="FR_hip_tran">
    <type>transmission_interface/SimpleTransmission</type>
    <joint name="FR_hip_joint">
      <hardwareInterface>hardware_interface/EffortJointInterface</hardwareInterface>
    </joint>
    <actuator name="FR_hip_motor">
      <hardwareInterface>hardware_interface/EffortJointInterface</hardwareInterface>
      <mechanicalReduction>1</mechanicalReduction>
    </actuator>
  </transmission>
  <transmission name="FR_thigh_tran">
    <type>transmission_interface/SimpleTransmission</type>
    <joint name="FR_thigh_joint">
      <hardwareInterface>hardware_interface/EffortJointInterface</hardwareInterface>
    </joint>
    <actuator name="FR_thigh_motor">
      <hardwareInterface>hardware_interface/EffortJointInterface</hardwareInterface>
      <mechanicalReduction>1</mechanicalReduction>
    </actuator>
  </transmission>
  <transmission name="FR_calf_tran">
    <type>transmission_interface/SimpleTransmission</type>
    <joint name="FR_calf_joint">
      <hardwareInterface>hardware_interface/EffortJointInterface</hardwareInterface>
    </joint>
    <actuator name="FR_calf_motor">
      <hardwareInterface>hardware_interface/EffortJointInterface</hardwareInterface>
      <mechanicalReduction>1</mechanicalReduction>
    </actuator>
  </transmission>
  <joint name="FL_hip_joint" type="revolute">
    <origin rpy="0 0 0" xyz="0.1881 0.04675 0"/>
    <parent link="trunk"/>
    <child link="FL_hip"/>
    <axis xyz="1 0 0"/>
    <dynamics damping="0" friction="0"/>
    <limit effort="33.5" lower="-0.8028514559173915" upper="0.8028514559173915" velocity="21"/>
  </joint>
  <link name="FL_hip">
    <visual>
      <origin rpy="0 0 0" xyz="0 0 0"/>
      <geometry>
        <mesh filename="../meshes/hip.dae" scale="1 1 1"/>
      </geometry>
      <material name="orange"/>
    </visual>
    <collision>
      <origin rpy="1.5707963267948966 0 0" xyz="0 0 0"/>
      <!-- <geometry>
        <mesh filename="../meshes/hip.dae" scale="1 1 1"/>
      </geometry> -->
      <geometry>
        <cylinder length="0.04" radius="0.046"/>
      </geometry>
    </collision>
    <inertial>
      <origin rpy="0 0 0" xyz="-0.00541 -0.00074 6e-06"/>
      <mass value="0.510299"/>
      <inertia ixx="0.00030528937" ixy="-7.788013e-06" ixz="2.2016e-07" iyy="0.000590894859" iyz="-1.7175e-08" izz="0.000396594572"/>
    </inertial>
  </link>
  <joint name="FL_hip_fixed" type="fixed">
    <origin rpy="0 0 0" xyz="0 0.08 0"/>
    <parent link="FL_hip"/>
    <child link="FL_thigh_shoulder"/>
  </joint>
  <!-- this link is only for collision -->
  <link name="FL_thigh_shoulder">
    <collision>
      <origin rpy="1.5707963267948966 0 0" xyz="0 0 0"/>
      <geometry>
        <cylinder length="0.032" radius="0.041"/>
      </geometry>
    </collision>
  </link>
  <joint name="FL_thigh_joint" type="revolute">
    <origin rpy="0 0 0" xyz="0 0.08 0"/>
    <parent link="FL_hip"/>
    <child link="FL_thigh"/>
    <axis xyz="0 1 0"/>
    <dynamics damping="0" friction="0"/>
    <limit effort="33.5" lower="-1.0471975511965976" upper="4.1887902047863905" velocity="21"/>
  </joint>
  <link name="FL_thigh">
    <visual>
      <origin rpy="0 0 0" xyz="0 0 0"/>
      <geometry>
        <mesh filename="../meshes/thigh.dae" scale="1 1 1"/>
      </geometry>
      <material name="orange"/>
    </visual>
    <collision>
      <origin rpy="0 1.5707963267948966 0" xyz="0 0 -0.1065"/>
      <geometry>
        <box size="0.213 0.0245 0.034"/>
      </geometry>
    </collision>
    <inertial>
      <origin rpy="0 0 0" xyz="-0.003468 -0.018947 -0.032736"/>
      <mass value="0.898919"/>
      <inertia ixx="0.005395867678" ixy="1.02809e-07" ixz="0.000337529085" iyy="0.005142451046" iyz="-5.816563e-06" izz="0.00102478732"/>
    </inertial>
  </link>
  <joint name="FL_calf_joint" type="revolute">
    <origin rpy="0 0 0" xyz="0 0 -0.213"/>
    <parent link="FL_thigh"/>
    <child link="FL_calf"/>
    <axis xyz="0 1 0"/>
    <dynamics damping="0" friction="0"/>
    <limit effort="33.5" lower="-2.6965336943312392" upper="-0.9162978572970231" velocity="21"/>
  </joint>
  <link name="FL_calf">
    <visual>
      <origin rpy="0 0 0" xyz="0 0 0"/>
      <geometry>
        <mesh filename="../meshes/calf.dae" scale="1 1 1"/>
      </geometry>
      <material name="orange"/>
    </visual>
    <collision>
      <origin rpy="0 1.5707963267948966 0" xyz="0 0 -0.1065"/>
      <geometry>
        <box size="0.213 0.016 0.016"/>
      </geometry>
    </collision>
    <inertial>
      <origin rpy="0 0 0" xyz="0.006286 0.001307 -0.122269"/>
      <mass value="0.158015"/>
      <inertia ixx="0.003607648222" ixy="1.494971e-06" ixz="-0.000132778525" iyy="0.003626771492" iyz="-2.8638535e-05" izz="3.5148003e-05"/>
    </inertial>
  </link>
  <joint name="FL_foot_fixed" type="fixed" dont_collapse="true">
    <origin rpy="0 0 0" xyz="0 0 -0.213"/>
    <parent link="FL_calf"/>
    <child link="FL_foot"/>
  </joint>
  <link name="FL_foot">
    <visual>
      <origin rpy="0 0 0" xyz="0 0 0"/>
      <geometry>
        <sphere radius="0.01"/>
      </geometry>
      <material name="orange"/>
    </visual>
    <collision>
      <origin rpy="0 0 0" xyz="0 0 0"/>
      <geometry>
        <sphere radius="0.02"/>
      </geometry>
    </collision>
    <inertial>
      <mass value="0.06"/>
      <inertia ixx="9.600000000000001e-06" ixy="0.0" ixz="0.0" iyy="9.600000000000001e-06" iyz="0.0" izz="9.600000000000001e-06"/>
    </inertial>
  </link>
  <transmission name="FL_hip_tran">
    <type>transmission_interface/SimpleTransmission</type>
    <joint name="FL_hip_joint">
      <hardwareInterface>hardware_interface/EffortJointInterface</hardwareInterface>
    </joint>
    <actuator name="FL_hip_motor">
      <hardwareInterface>hardware_interface/EffortJointInterface</hardwareInterface>
      <mechanicalReduction>1</mechanicalReduction>
    </actuator>
  </transmission>
  <transmission name="FL_thigh_tran">
    <type>transmission_interface/SimpleTransmission</type>
    <joint name="FL_thigh_joint">
      <hardwareInterface>hardware_interface/EffortJointInterface</hardwareInterface>
    </joint>
    <actuator name="FL_thigh_motor">
      <hardwareInterface>hardware_interface/EffortJointInterface</hardwareInterface>
      <mechanicalReduction>1</mechanicalReduction>
    </actuator>
  </transmission>
  <transmission name="FL_calf_tran">
    <type>transmission_interface/SimpleTransmission</type>
    <joint name="FL_calf_joint">
      <hardwareInterface>hardware_interface/EffortJointInterface</hardwareInterface>
    </joint>
    <actuator name="FL_calf_motor">
      <hardwareInterface>hardware_interface/EffortJointInterface</hardwareInterface>
      <mechanicalReduction>1</mechanicalReduction>
    </actuator>
  </transmission>
  <joint name="RR_hip_joint" type="revolute">
    <origin rpy="0 0 0" xyz="-0.1881 -0.04675 0"/>
    <parent link="trunk"/>
    <child link="RR_hip"/>
    <axis xyz="1 0 0"/>
    <dynamics damping="0" friction="0"/>
    <limit effort="33.5" lower="-0.8028514559173915" upper="0.8028514559173915" velocity="21"/>
  </joint>
  <link name="RR_hip">
    <visual>
      <origin rpy="3.141592653589793 3.141592653589793 0" xyz="0 0 0"/>
      <geometry>
        <mesh filename="../meshes/hip.dae" scale="1 1 1"/>
      </geometry>
      <material name="orange"/>
    </visual>
    <collision>
      <origin rpy="1.5707963267948966 0 0" xyz="0 0 0"/>
      <geometry>
        <cylinder length="0.04" radius="0.046"/>
      </geometry>
    </collision>
    <inertial>
      <origin rpy="0 0 0" xyz="0.00541 0.00074 6e-06"/>
      <mass value="0.510299"/>
      <inertia ixx="0.00030528937" ixy="-7.788013e-06" ixz="-2.2016e-07" iyy="0.000590894859" iyz="1.7175e-08" izz="0.000396594572"/>
    </inertial>
  </link>
  <joint name="RR_hip_fixed" type="fixed">
    <origin rpy="0 0 0" xyz="0 -0.08 0"/>
    <parent link="RR_hip"/>
    <child link="RR_thigh_shoulder"/>
  </joint>
  <!-- this link is only for collision -->
  <link name="RR_thigh_shoulder">
    <collision>
      <origin rpy="1.5707963267948966 0 0" xyz="0 0 0"/>
      <geometry>
        <cylinder length="0.032" radius="0.041"/>
      </geometry>
    </collision>
  </link>
  <joint name="RR_thigh_joint" type="revolute">
    <origin rpy="0 0 0" xyz="0 -0.08 0"/>
    <parent link="RR_hip"/>
    <child link="RR_thigh"/>
    <axis xyz="0 1 0"/>
    <dynamics damping="0" friction="0"/>
    <limit effort="33.5" lower="-1.0471975511965976" upper="4.1887902047863905" velocity="21"/>
  </joint>
  <link name="RR_thigh">
    <visual>
      <origin rpy="0 0 0" xyz="0 0 0"/>
      <geometry>
        <mesh filename="../meshes/thigh_mirror.dae" scale="1 1 1"/>
      </geometry>
      <material name="orange"/>
    </visual>
    <collision>
      <origin rpy="0 1.5707963267948966 0" xyz="0 0 -0.1065"/>
      <geometry>
        <box size="0.213 0.0245 0.034"/>
      </geometry>
    </collision>
    <inertial>
      <origin rpy="0 0 0" xyz="-0.003468 0.018947 -0.032736"/>
      <mass value="0.898919"/>
      <inertia ixx="0.005395867678" ixy="-1.02809e-07" ixz="0.000337529085" iyy="0.005142451046" iyz="5.816563e-06" izz="0.00102478732"/>
    </inertial>
  </link>
  <joint name="RR_calf_joint" type="revolute">
    <origin rpy="0 0 0" xyz="0 0 -0.213"/>
    <parent link="RR_thigh"/>
    <child link="RR_calf"/>
    <axis xyz="0 1 0"/>
    <dynamics damping="0" friction="0"/>
    <limit effort="33.5" lower="-2.6965336943312392" upper="-0.9162978572970231" velocity="21"/>
  </joint>
  <link name="RR_calf">
    <visual>
      <origin rpy="0 0 0" xyz="0 0 0"/>
      <geometry>
        <mesh filename="../meshes/calf.dae" scale="1 1 1"/>
      </geometry>
      <material name="orange"/>
    </visual>
    <collision>
      <origin rpy="0 1.5707963267948966 0" xyz="0 0 -0.1065"/>
      <geometry>
        <box size="0.213 0.016 0.016"/>
      </geometry>
    </collision>
    <inertial>
      <origin rpy="0 0 0" xyz="0.006286 0.001307 -0.122269"/>
      <mass value="0.158015"/>
      <inertia ixx="0.003607648222" ixy="1.494971e-06" ixz="-0.000132778525" iyy="0.003626771492" iyz="-2.8638535e-05" izz="3.5148003e-05"/>
    </inertial>
  </link>
  <joint name="RR_foot_fixed" type="fixed" dont_collapse="true">
    <origin rpy="0 0 0" xyz="0 0 -0.213"/>
    <parent link="RR_calf"/>
    <child link="RR_foot"/>
  </joint>
  <link name="RR_foot">
    <visual>
      <origin rpy="0 0 0" xyz="0 0 0"/>
      <geometry>
        <sphere radius="0.01"/>
      </geometry>
      <material name="orange"/>
    </visual>
    <collision>
      <origin rpy="0 0 0" xyz="0 0 0"/>
      <geometry>
        <sphere radius="0.02"/>
      </geometry>
    </collision>
    <inertial>
      <mass value="0.06"/>
      <inertia ixx="9.600000000000001e-06" ixy="0.0" ixz="0.0" iyy="9.600000000000001e-06" iyz="0.0" izz="9.600000000000001e-06"/>
    </inertial>
  </link>
  <transmission name="RR_hip_tran">
    <type>transmission_interface/SimpleTransmission</type>
    <joint name="RR_hip_joint">
      <hardwareInterface>hardware_interface/EffortJointInterface</hardwareInterface>
    </joint>
    <actuator name="RR_hip_motor">
      <hardwareInterface>hardware_interface/EffortJointInterface</hardwareInterface>
      <mechanicalReduction>1</mechanicalReduction>
    </actuator>
  </transmission>
  <transmission name="RR_thigh_tran">
    <type>transmission_interface/SimpleTransmission</type>
    <joint name="RR_thigh_joint">
      <hardwareInterface>hardware_interface/EffortJointInterface</hardwareInterface>
    </joint>
    <actuator name="RR_thigh_motor">
      <hardwareInterface>hardware_interface/EffortJointInterface</hardwareInterface>
      <mechanicalReduction>1</mechanicalReduction>
    </actuator>
  </transmission>
  <transmission name="RR_calf_tran">
    <type>transmission_interface/SimpleTransmission</type>
    <joint name="RR_calf_joint">
      <hardwareInterface>hardware_interface/EffortJointInterface</hardwareInterface>
    </joint>
    <actuator name="RR_calf_motor">
      <hardwareInterface>hardware_interface/EffortJointInterface</hardwareInterface>
      <mechanicalReduction>1</mechanicalReduction>
    </actuator>
  </transmission>
  <joint name="RL_hip_joint" type="revolute">
    <origin rpy="0 0 0" xyz="-0.1881 0.04675 0"/>
    <parent link="trunk"/>
    <child link="RL_hip"/>
    <axis xyz="1 0 0"/>
    <dynamics damping="0" friction="0"/>
    <limit effort="33.5" lower="-0.8028514559173915" upper="0.8028514559173915" velocity="21"/>
  </joint>
  <link name="RL_hip">
    <visual>
      <origin rpy="0 3.141592653589793 0" xyz="0 0 0"/>
      <geometry>
        <mesh filename="../meshes/hip.dae" scale="1 1 1"/>
      </geometry>
      <material name="orange"/>
    </visual>
    <collision>
      <origin rpy="1.5707963267948966 0 0" xyz="0 0 0"/>
      <geometry>
        <cylinder length="0.04" radius="0.046"/>
      </geometry>
    </collision>
    <inertial>
      <origin rpy="0 0 0" xyz="0.00541 -0.00074 6e-06"/>
      <mass value="0.510299"/>
      <inertia ixx="0.00030528937" ixy="7.788013e-06" ixz="-2.2016e-07" iyy="0.000590894859" iyz="-1.7175e-08" izz="0.000396594572"/>
    </inertial>
  </link>
  <joint name="RL_hip_fixed" type="fixed">
    <origin rpy="0 0 0" xyz="0 0.08 0"/>
    <parent link="RL_hip"/>
    <child link="RL_thigh_shoulder"/>
  </joint>
  <!-- this link is only for collision -->
  <link name="RL_thigh_shoulder">
    <collision>
      <origin rpy="1.5707963267948966 0 0" xyz="0 0 0"/>
      <geometry>
        <cylinder length="0.032" radius="0.041"/>
      </geometry>
    </collision>
  </link>
  <joint name="RL_thigh_joint" type="revolute">
    <origin rpy="0 0 0" xyz="0 0.08 0"/>
    <parent link="RL_hip"/>
    <child link="RL_thigh"/>
    <axis xyz="0 1 0"/>
    <dynamics damping="0" friction="0"/>
    <limit effort="33.5" lower="-1.0471975511965976" upper="4.1887902047863905" velocity="21"/>
  </joint>
  <link name="RL_thigh">
    <visual>
      <origin rpy="0 0 0" xyz="0 0 0"/>
      <geometry>
        <mesh filename="../meshes/thigh.dae" scale="1 1 1"/>
      </geometry>
      <material name="orange"/>
    </visual>
    <collision>
      <origin rpy="0 1.5707963267948966 0" xyz="0 0 -0.1065"/>
      <geometry>
        <box size="0.213 0.0245 0.034"/>
      </geometry>
    </collision>
    <inertial>
      <origin rpy="0 0 0" xyz="-0.003468 -0.018947 -0.032736"/>
      <mass value="0.898919"/>
      <inertia ixx="0.005395867678" ixy="1.02809e-07" ixz="0.000337529085" iyy="0.005142451046" iyz="-5.816563e-06" izz="0.00102478732"/>
    </inertial>
  </link>
  <joint name="RL_calf_joint" type="revolute">
    <origin rpy="0 0 0" xyz="0 0 -0.213"/>
    <parent link="RL_thigh"/>
    <child link="RL_calf"/>
    <axis xyz="0 1 0"/>
    <dynamics damping="0" friction="0"/>
    <limit effort="33.5" lower="-2.6965336943312392" upper="-0.9162978572970231" velocity="21"/>
  </joint>
  <link name="RL_calf">
    <visual>
      <origin rpy="0 0 0" xyz="0 0 0"/>
      <geometry>
        <mesh filename="../meshes/calf.dae" scale="1 1 1"/>
      </geometry>
      <material name="orange"/>
    </visual>
    <collision>
      <origin rpy="0 1.5707963267948966 0" xyz="0 0 -0.1065"/>
      <geometry>
        <box size="0.213 0.016 0.016"/>
      </geometry>
    </collision>
    <inertial>
      <origin rpy="0 0 0" xyz="0.006286 0.001307 -0.122269"/>
      <mass value="0.158015"/>
      <inertia ixx="0.003607648222" ixy="1.494971e-06" ixz="-0.000132778525" iyy="0.003626771492" iyz="-2.8638535e-05" izz="3.5148003e-05"/>
    </inertial>
  </link>
  <joint name="RL_foot_fixed" type="fixed" dont_collapse="true">
    <origin rpy="0 0 0" xyz="0 0 -0.213"/>
    <parent link="RL_calf"/>
    <child link="RL_foot"/>
  </joint>
  <link name="RL_foot">
    <visual>
      <origin rpy="0 0 0" xyz="0 0 0"/>
      <geometry>
        <sphere radius="0.01"/>
      </geometry>
      <material name="orange"/>
    </visual>
    <collision>
      <origin rpy="0 0 0" xyz="0 0 0"/>
      <geometry>
        <sphere radius="0.02"/>
      </geometry>
    </collision>
    <inertial>
      <mass value="0.06"/>
      <inertia ixx="9.600000000000001e-06" ixy="0.0" ixz="0.0" iyy="9.600000000000001e-06" iyz="0.0" izz="9.600000000000001e-06"/>
    </inertial>
  </link>
  <transmission name="RL_hip_tran">
    <type>transmission_interface/SimpleTransmission</type>
    <joint name="RL_hip_joint">
      <hardwareInterface>hardware_interface/EffortJointInterface</hardwareInterface>
    </joint>
    <actuator name="RL_hip_motor">
      <hardwareInterface>hardware_interface/EffortJointInterface</hardwareInterface>
      <mechanicalReduction>1</mechanicalReduction>
    </actuator>
  </transmission>
  <transmission name="RL_thigh_tran">
    <type>transmission_interface/SimpleTransmission</type>
    <joint name="RL_thigh_joint">
      <hardwareInterface>hardware_interface/EffortJointInterface</hardwareInterface>
    </joint>
    <actuator name="RL_thigh_motor">
      <hardwareInterface>hardware_interface/EffortJointInterface</hardwareInterface>
      <mechanicalReduction>1</mechanicalReduction>
    </actuator>
  </transmission>
  <transmission name="RL_calf_tran">
    <type>transmission_interface/SimpleTransmission</type>
    <joint name="RL_calf_joint">
      <hardwareInterface>hardware_interface/EffortJointInterface</hardwareInterface>
    </joint>
    <actuator name="RL_calf_motor">
      <hardwareInterface>hardware_interface/EffortJointInterface</hardwareInterface>
      <mechanicalReduction>1</mechanicalReduction>
    </actuator>
  </transmission>

</robot>
